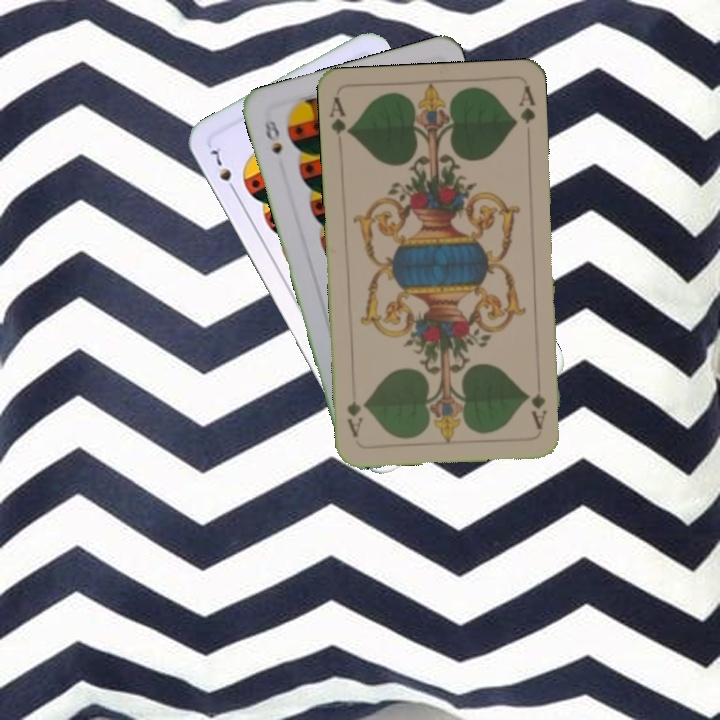GA: (326, 93, 354, 139), (527, 374, 549, 432)
S7: (207, 143, 240, 197)
S8: (260, 114, 285, 157)
